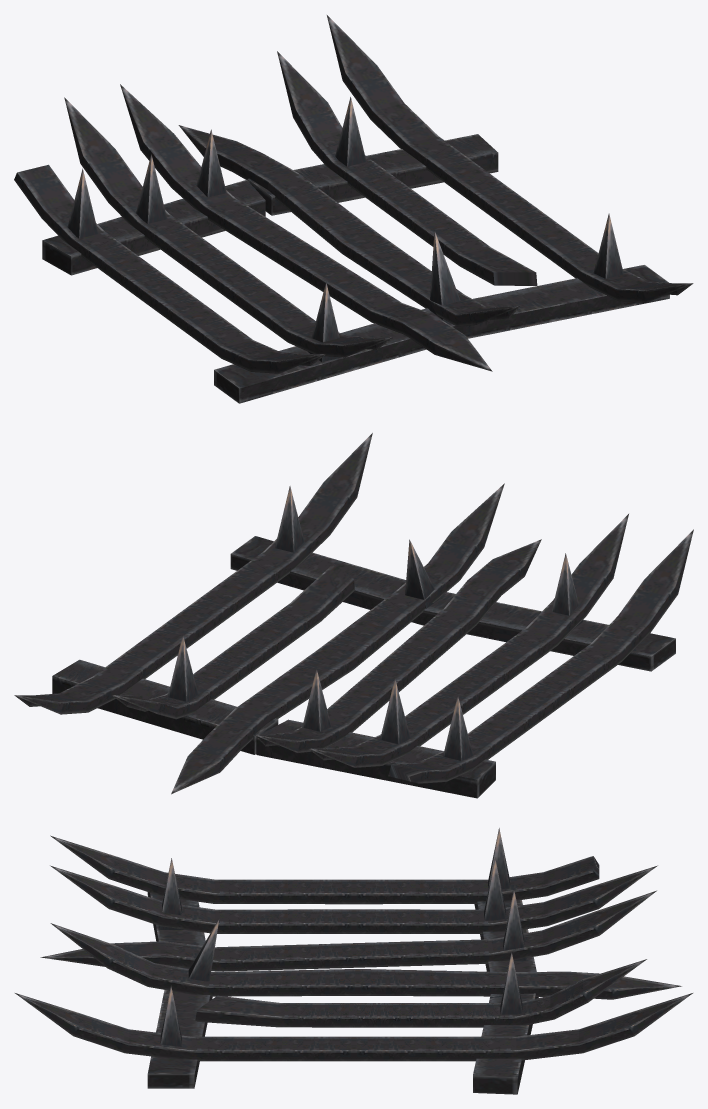
The model's file is 10504_IronRail04.FBX.
3 renders of one model, top to bottom at view 1: azimuth 30°, elevation 25°; view 2: azimuth 150°, elevation 25°; view 3: azimuth 270°, elevation 25°, orthographic. The views are drawn at different scales.
Parts seen in each view (by area): view 1: 10504_IronRail04; view 2: 10504_IronRail04; view 3: 10504_IronRail04.
Part boxes in pixels (x1,y1,x2,y2): 10504_IronRail04: [14, 15, 693, 403]; 10504_IronRail04: [14, 433, 693, 798]; 10504_IronRail04: [15, 828, 692, 1094].
Size of the model in its own units: 446 by 88.6 by 647.
